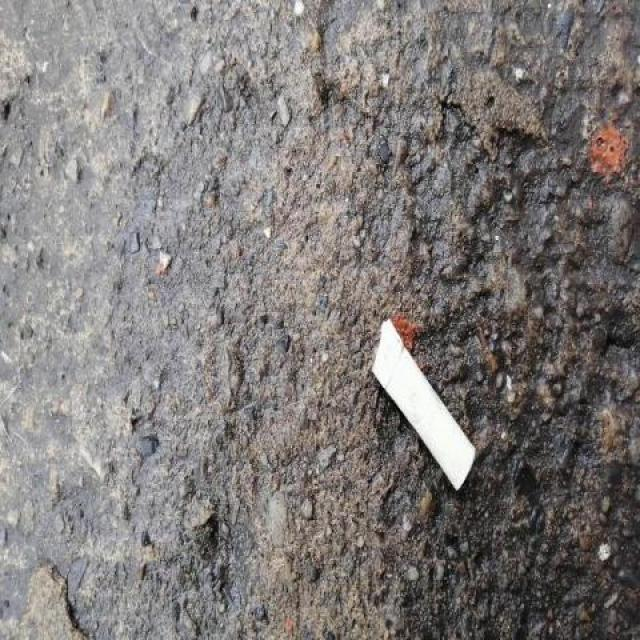non-organic waste: (367, 314, 478, 495)
